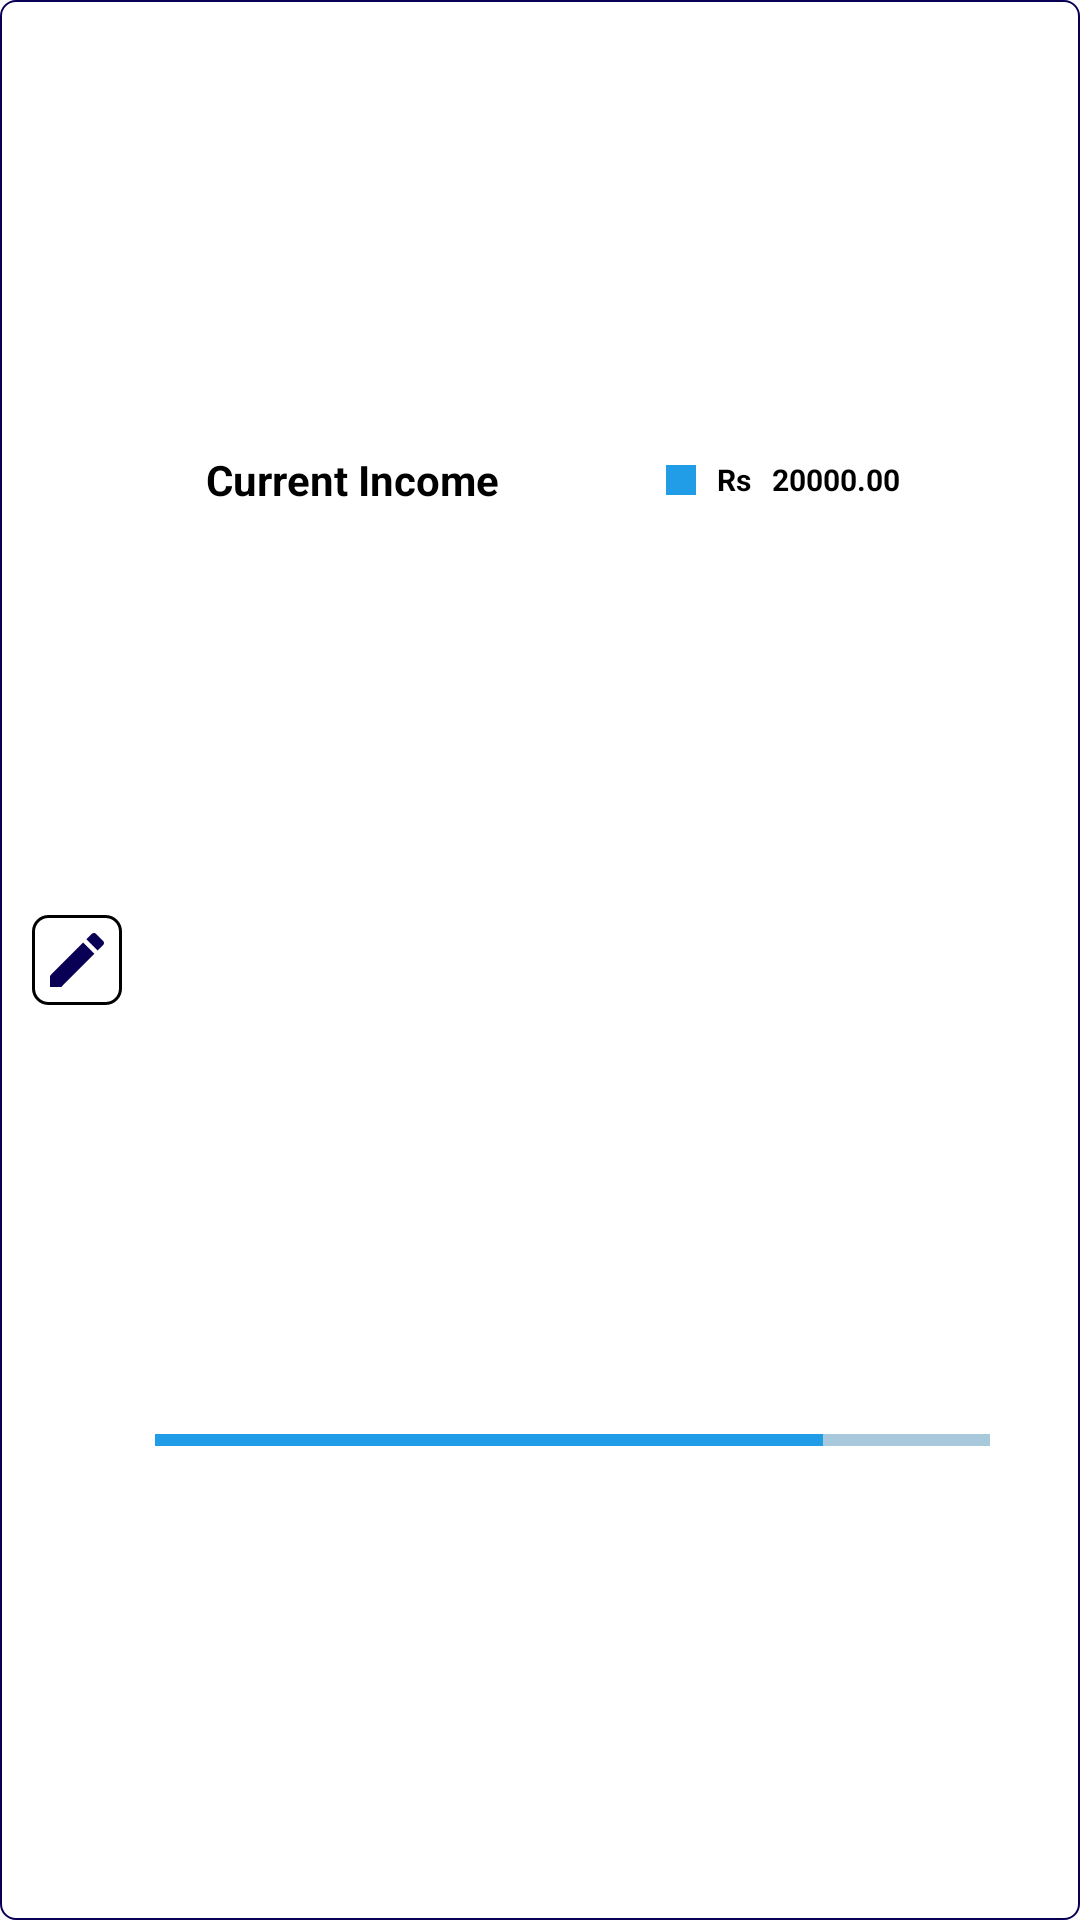

Point at icon controls on the screen. Image size 1080*1920, points as point (x, y).
edit: point (77, 960)
